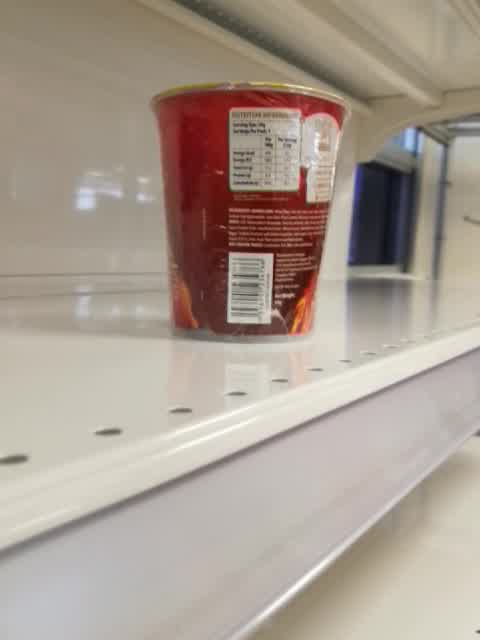maggi: (146, 80, 354, 346)
